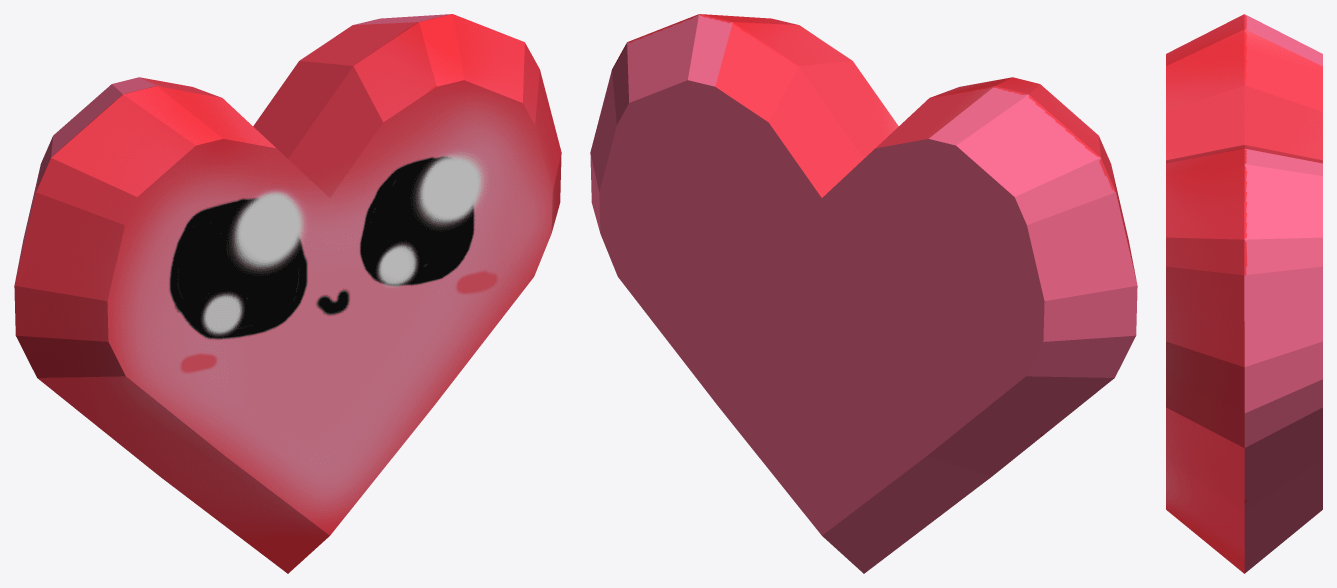
Rendered from corason.obj.
The picture shows the model from 3 angles, left to right: view 1: azimuth 30°, elevation 25°; view 2: azimuth 150°, elevation 25°; view 3: azimuth 270°, elevation 25°; orthographic projection. The views are drawn at different scales.
Parts seen in each view (by area): view 1: Plane; view 2: Plane; view 3: Plane.
Boxes of the visible parts, x1,y1,x2,y2 form: Plane: (14,14,561,573); Plane: (590,14,1137,573); Plane: (1166,14,1322,573).
Bounding box in the file's own units: 2.75 × 2.5 × 0.7334.
1 material, 1 textured.
